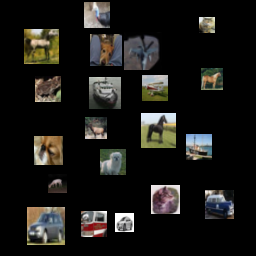airplane: (124, 32, 162, 70), (142, 75, 168, 101)
automobile: (27, 207, 65, 245), (205, 190, 234, 219), (115, 213, 134, 232)
bird: (84, 2, 110, 28)
cat: (151, 185, 180, 214), (199, 17, 215, 33)
deer: (85, 117, 107, 139), (48, 174, 67, 193)
dog: (90, 34, 122, 66), (34, 136, 63, 165), (100, 149, 126, 175)
frog: (35, 76, 61, 102)
ship: (89, 77, 121, 109), (186, 134, 212, 160)
